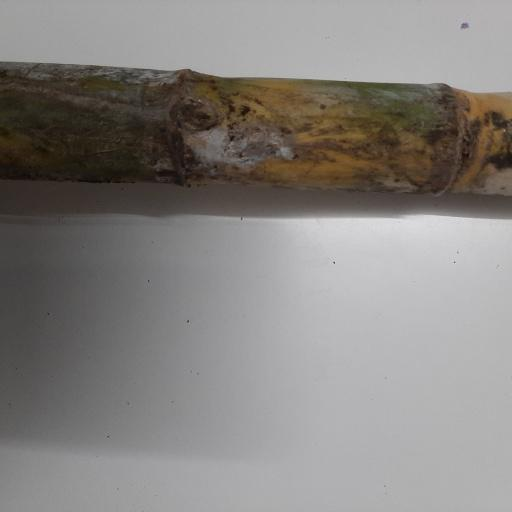Bud: (170, 94, 221, 132)
